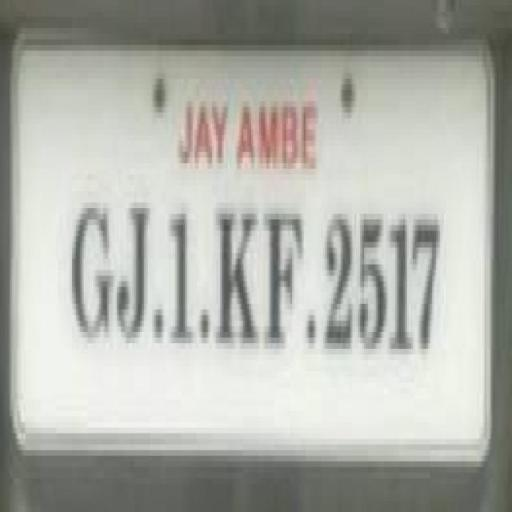number plate: (10, 62, 479, 444)
